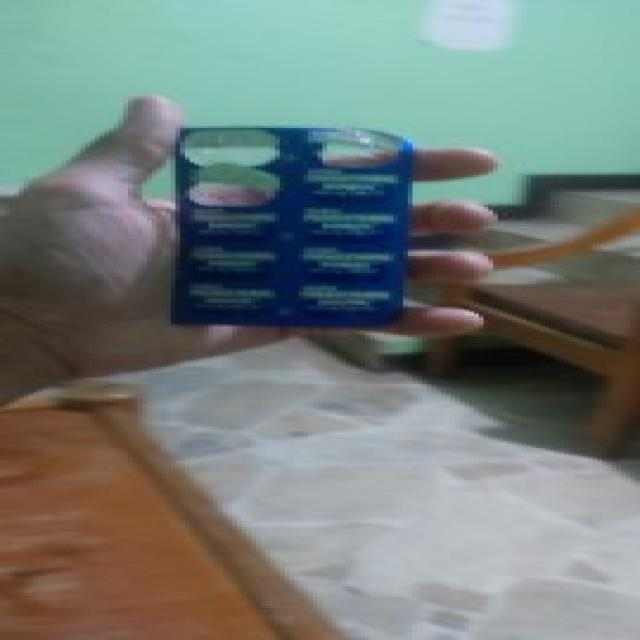Cacat: (175, 124, 415, 325)
Kemasan: (182, 127, 282, 214), (302, 126, 406, 176)
